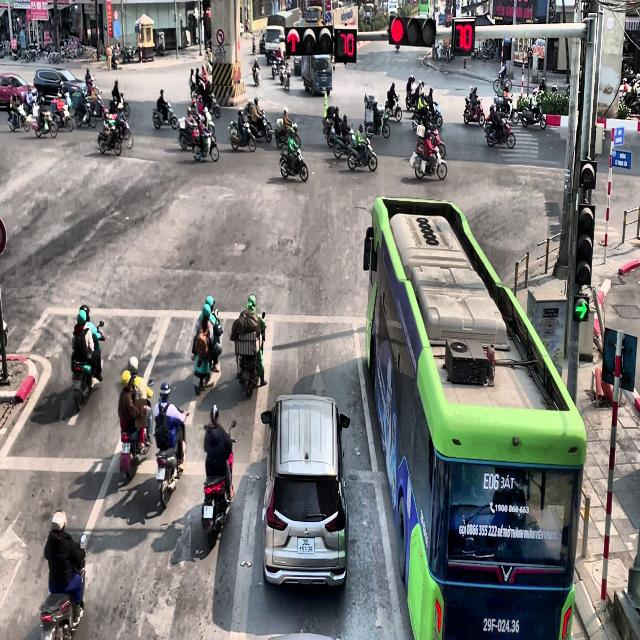BUS: (363, 195, 587, 639)
CAR: (260, 394, 350, 589), (33, 67, 88, 102), (0, 72, 38, 110)
MOTORBIKE: (39, 534, 87, 640), (202, 420, 236, 548), (119, 379, 154, 481), (155, 411, 189, 509), (71, 320, 105, 412), (235, 311, 266, 397), (412, 140, 447, 181), (102, 108, 133, 150), (192, 342, 214, 396), (348, 135, 378, 171), (280, 146, 308, 182), (484, 117, 515, 149), (244, 109, 272, 143), (228, 119, 256, 152), (192, 128, 219, 162), (412, 102, 442, 130), (7, 96, 30, 132), (30, 109, 58, 138), (152, 100, 178, 130), (493, 95, 519, 124), (98, 124, 121, 156), (75, 93, 96, 128), (51, 97, 72, 132), (365, 111, 390, 139), (275, 122, 301, 148), (522, 102, 546, 129), (332, 129, 354, 158), (463, 96, 485, 125), (109, 92, 130, 118), (405, 84, 424, 110), (384, 95, 402, 122), (493, 76, 512, 95), (279, 62, 291, 90), (270, 55, 281, 78), (252, 65, 260, 86)
TRAFFIC_LIGHT: (574, 202, 594, 286), (389, 14, 436, 46), (452, 18, 475, 54), (334, 27, 357, 62), (106, 1, 113, 38)
